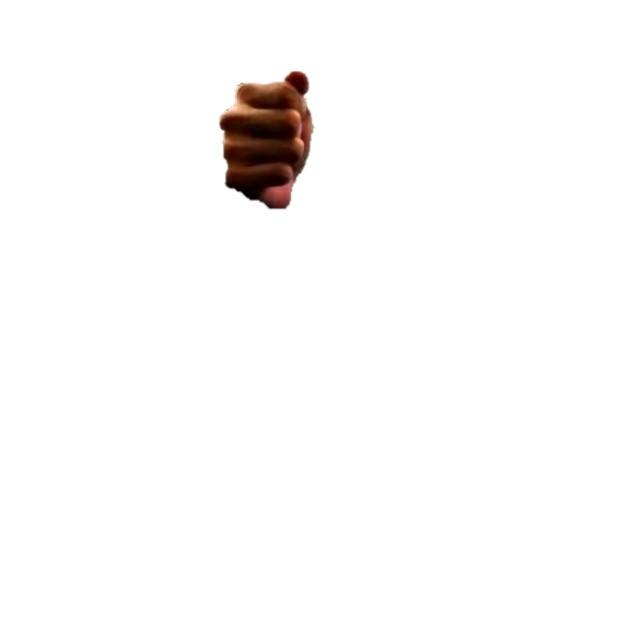gu-: (218, 68, 317, 196)
